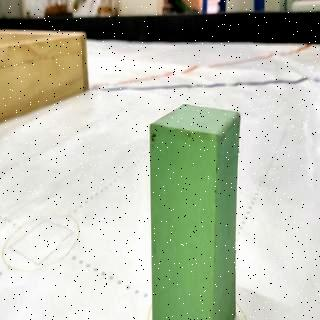greenbox: (146, 101, 240, 320)
